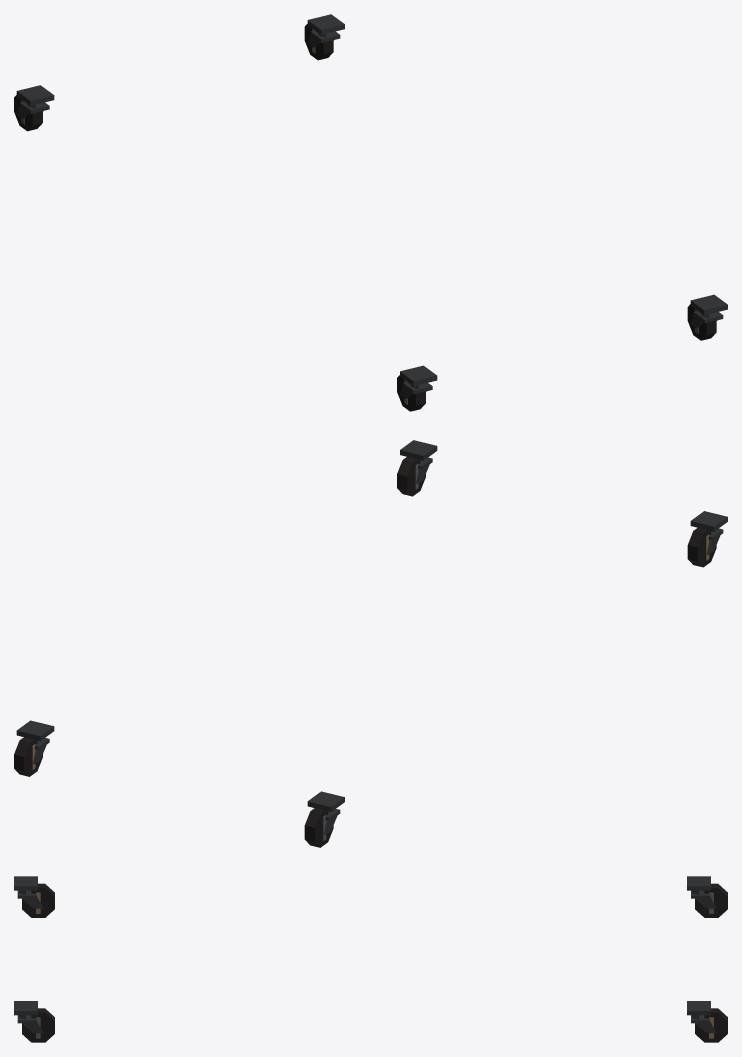
Rendered from tl_prop_bed_casters_v01.glb.
3 renders of one model, top to bottom at view 1: azimuth 30°, elevation 25°; view 2: azimuth 150°, elevation 25°; view 3: azimuth 270°, elevation 25°, orthographic. The views are drawn at different scales.
Visible parts, largest first — view 1: tl_prop_bed_casters_v01; view 2: tl_prop_bed_casters_v01, caster_rr_wheel, caster_fr_wheel, caster_rl_wheel, caster_fl_wheel; view 3: tl_prop_bed_casters_v01, caster_rl_wheel, caster_rr_wheel, caster_fr_wheel, caster_fl_wheel, caster_fl, caster_fr, caster_rl, caster_rr.
Part boxes in pixels (bbox=[...]): tl_prop_bed_casters_v01: bbox=[16, 14, 727, 386]; tl_prop_bed_casters_v01: bbox=[16, 440, 727, 811]; caster_rr_wheel: bbox=[304, 808, 333, 847]; caster_fr_wheel: bbox=[687, 528, 716, 567]; caster_rl_wheel: bbox=[14, 737, 42, 776]; caster_fl_wheel: bbox=[397, 457, 425, 496]; tl_prop_bed_casters_v01: bbox=[14, 876, 710, 1015]; caster_rl_wheel: bbox=[695, 1008, 727, 1042]; caster_rr_wheel: bbox=[695, 883, 727, 917]; caster_fr_wheel: bbox=[22, 883, 54, 917]; caster_fl_wheel: bbox=[22, 1008, 54, 1042]; caster_fl: bbox=[17, 1015, 43, 1033]; caster_fr: bbox=[17, 890, 43, 908]; caster_rl: bbox=[691, 1015, 716, 1033]; caster_rr: bbox=[691, 890, 716, 908].
Bounding box in the file's own units: 0.928 × 0.111 × 2.08.
